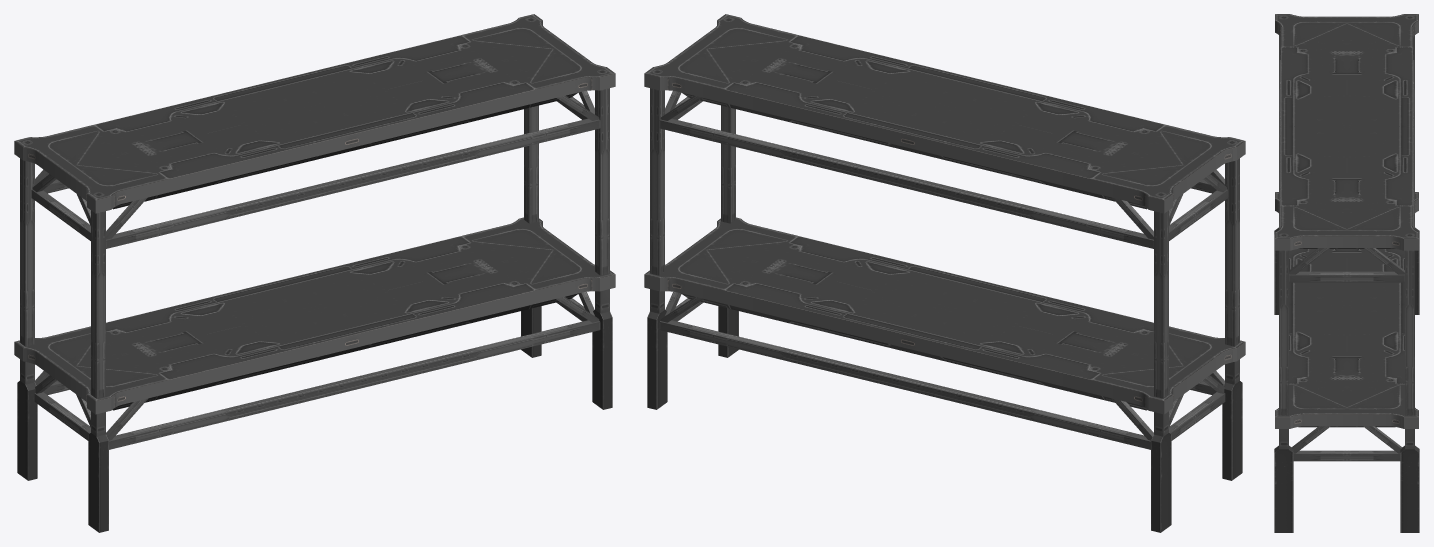
Rendered from Prop_Shelves_WideShort.gltf.
3 views of the same model, side by side, from view 1: azimuth 30°, elevation 25°; view 2: azimuth 150°, elevation 25°; view 3: azimuth 270°, elevation 25° (orthographic). The views are drawn at different scales.
Visible parts, largest first — view 1: Prop_Shelves_WideShort; view 2: Prop_Shelves_WideShort; view 3: Prop_Shelves_WideShort.
Boxes of the visible parts, x1,y1,x2,y2 form: Prop_Shelves_WideShort: (14, 14, 615, 532); Prop_Shelves_WideShort: (644, 14, 1245, 532); Prop_Shelves_WideShort: (1274, 14, 1419, 532).
Bounding box in the file's own units: 1.98 × 1.21 × 0.5407.
1 material, 1 textured.
